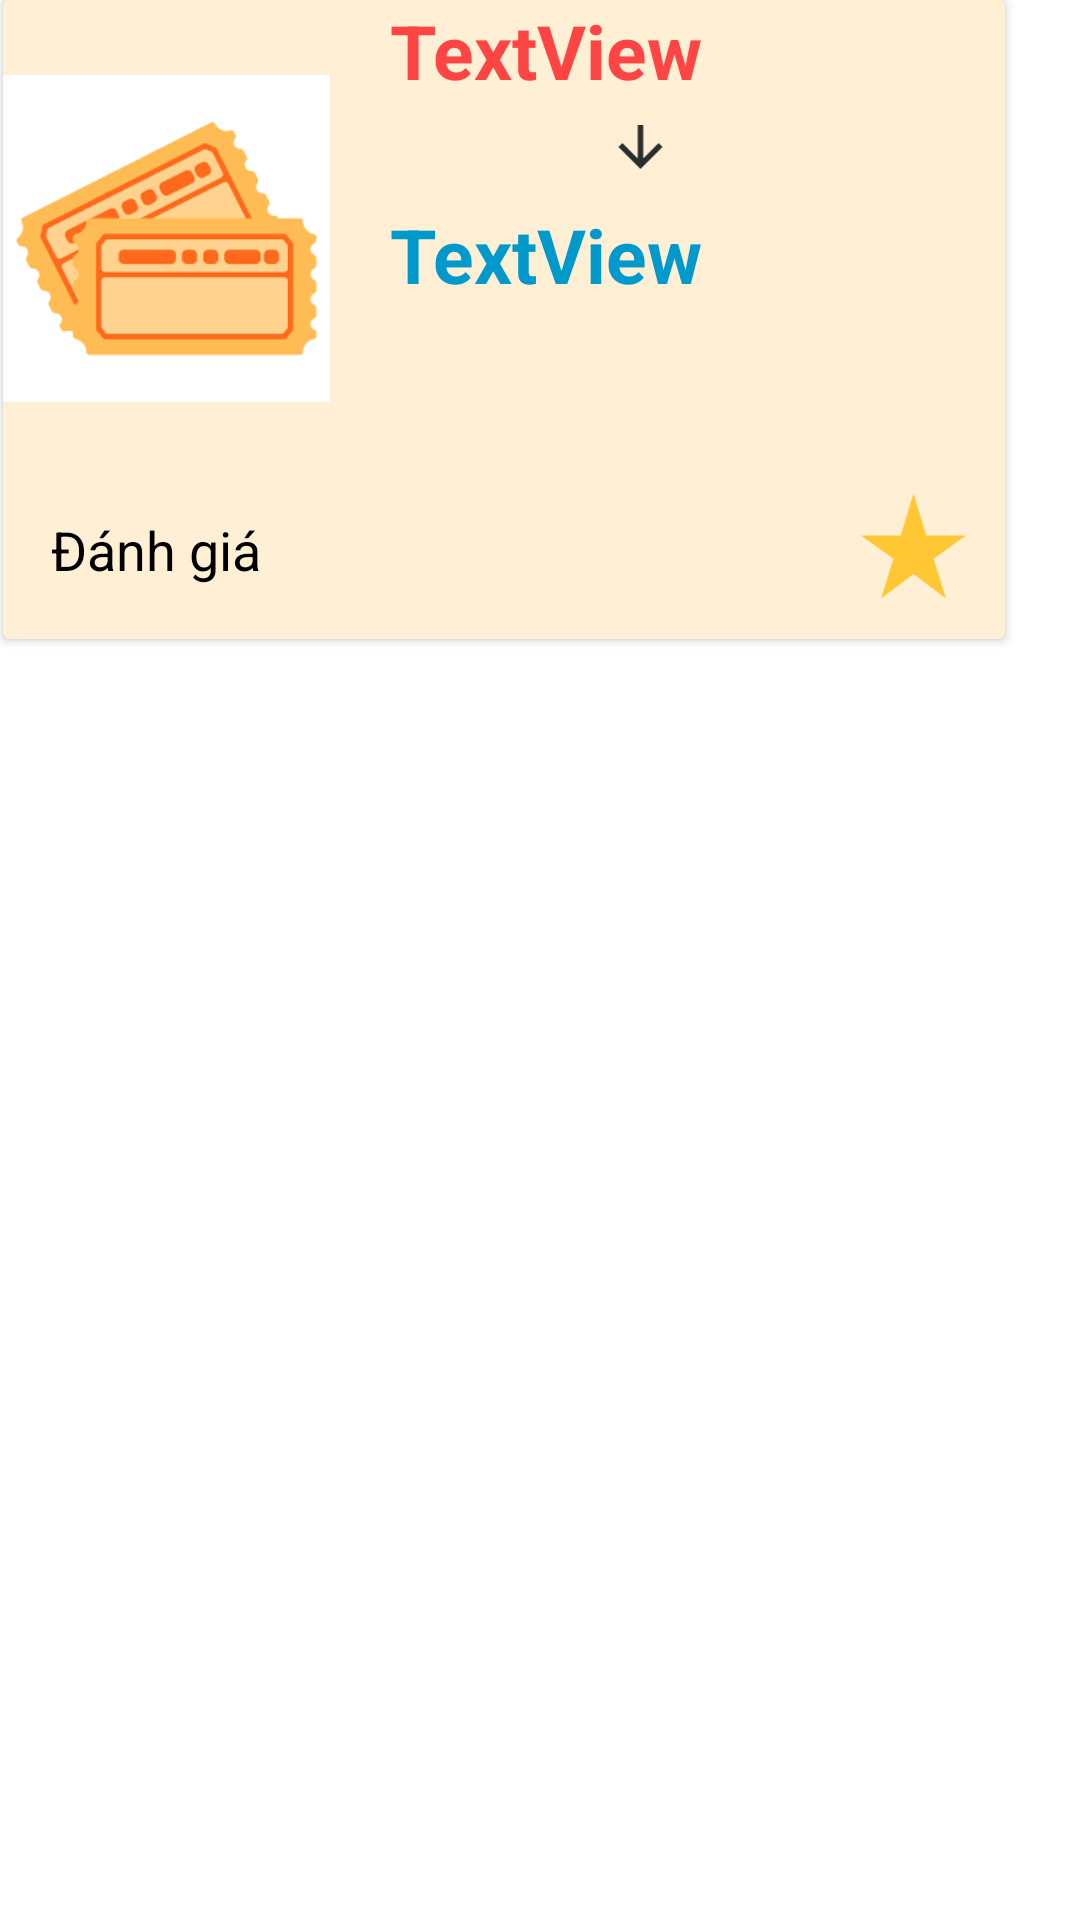

Screen size 1080*1920. Icon name, then its box in pixels as [x1,y1,x2,y2]:
arrow downward: [618,125,663,169]
star rate: [861,494,966,598]
